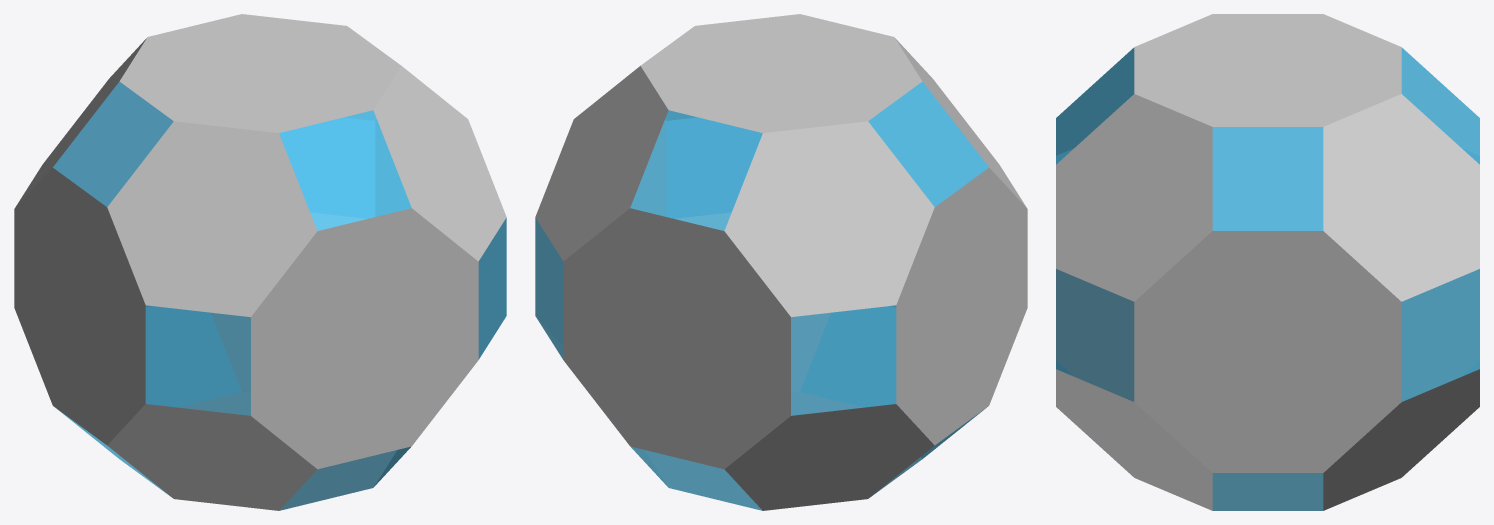
The model's file is TruncatedCuboctahedron.obj.
3 renders of one model, left to right at view 1: azimuth 30°, elevation 25°; view 2: azimuth 150°, elevation 25°; view 3: azimuth 270°, elevation 25°, orthographic.
Size of the model in its own units: 3.83 by 3.83 by 3.83.
